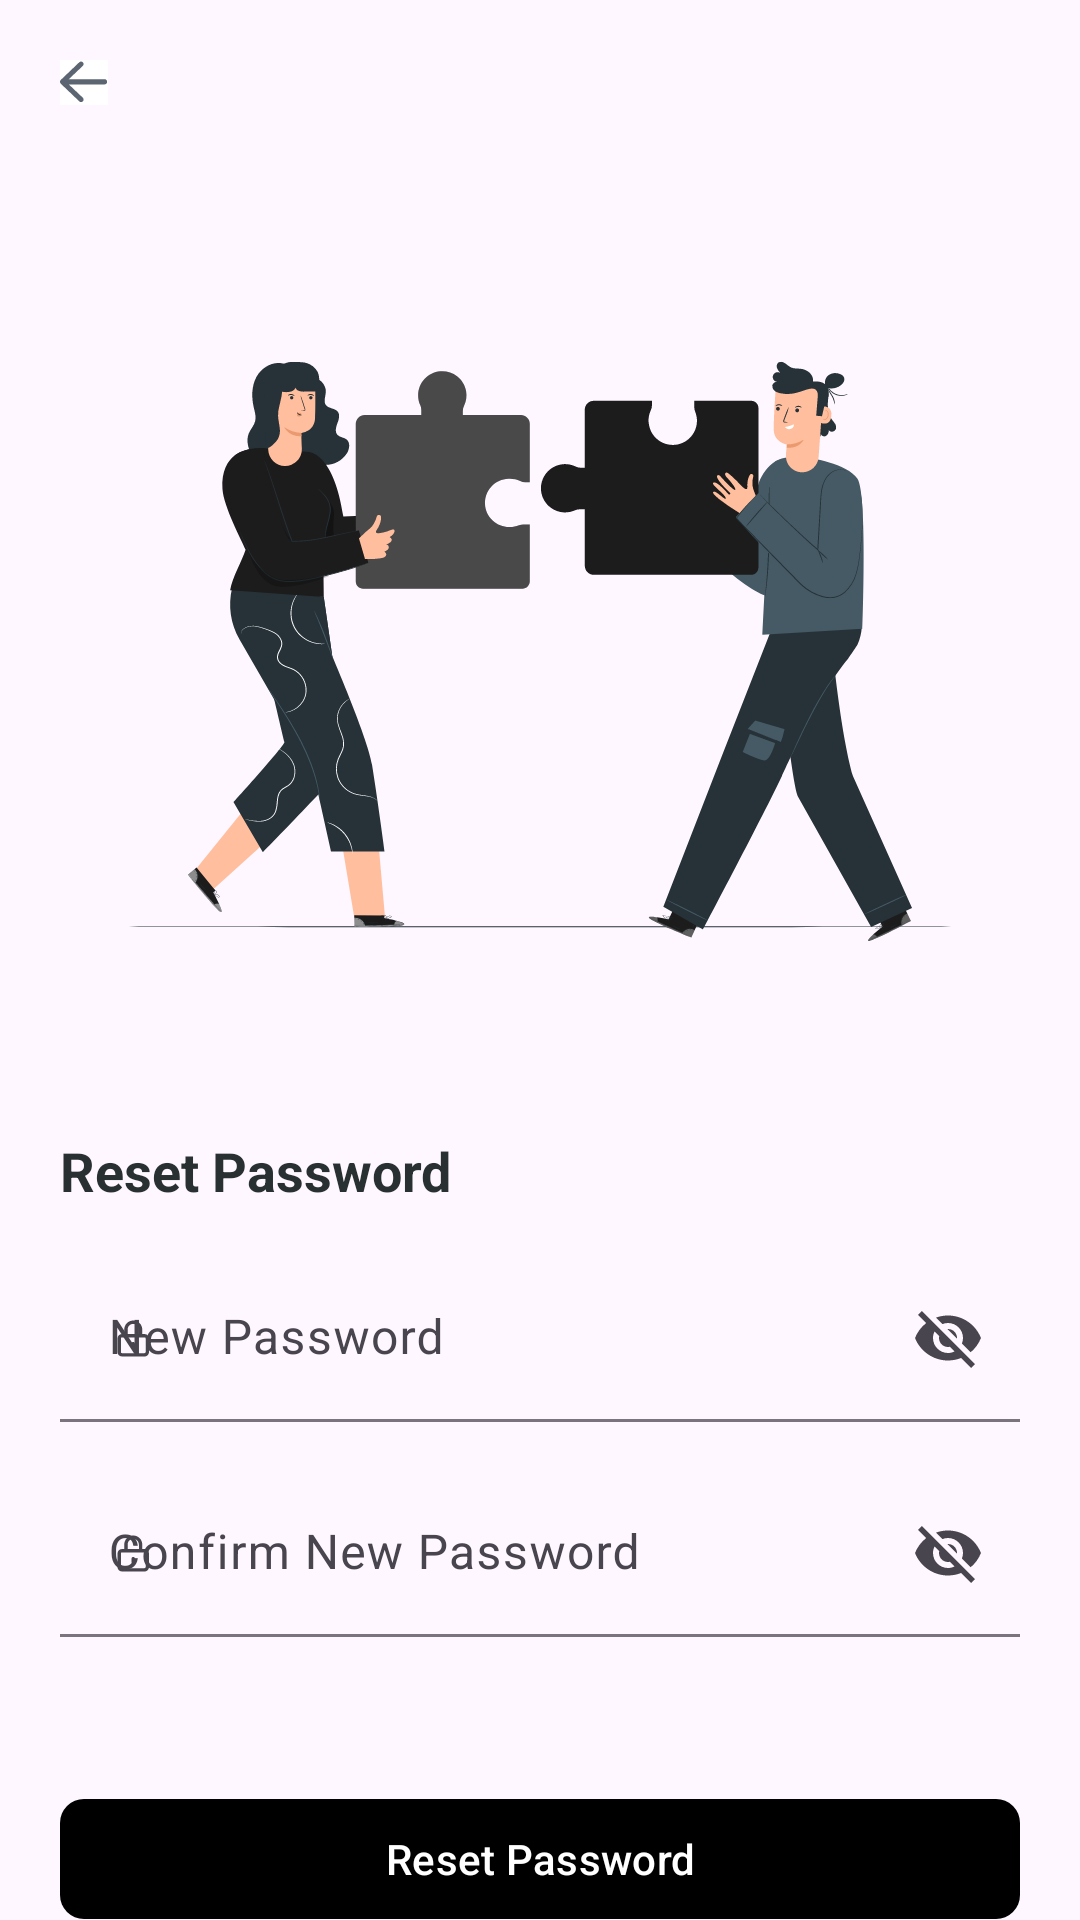

Named icons in this screenshot (1080px×1920px) and their centers, point (x, y):
back: point (83, 81)
